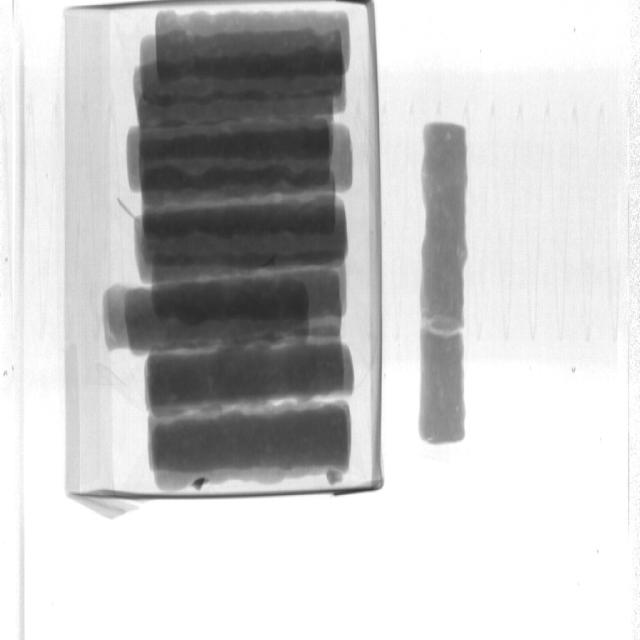ym: (118, 199, 139, 219), (328, 469, 345, 488), (191, 478, 208, 492), (263, 257, 277, 267)
